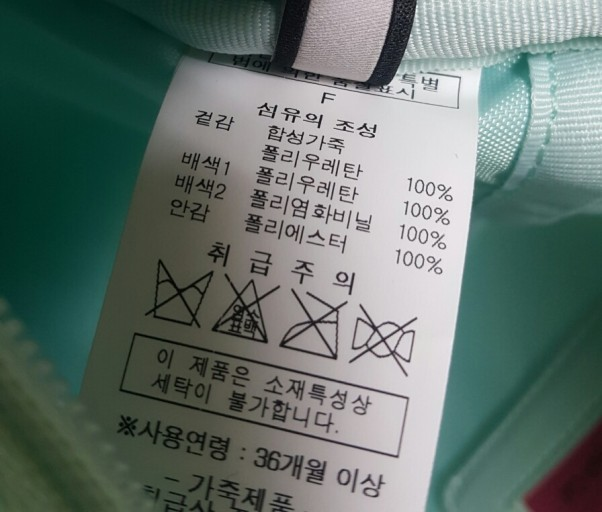KR_no_chlorine_bleach: (213, 275, 271, 347)
KR_no_iron: (278, 286, 342, 360)
KR_no_wash: (150, 257, 210, 327)
KR_no_wring: (350, 304, 415, 372)
